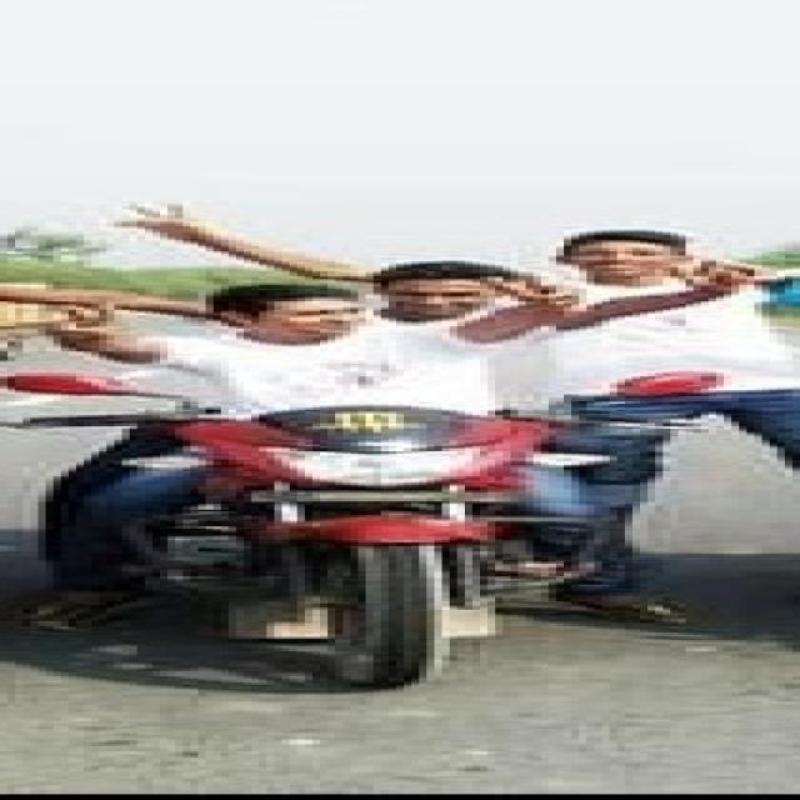nohelmet: (176, 288, 428, 338), (538, 230, 733, 290)
